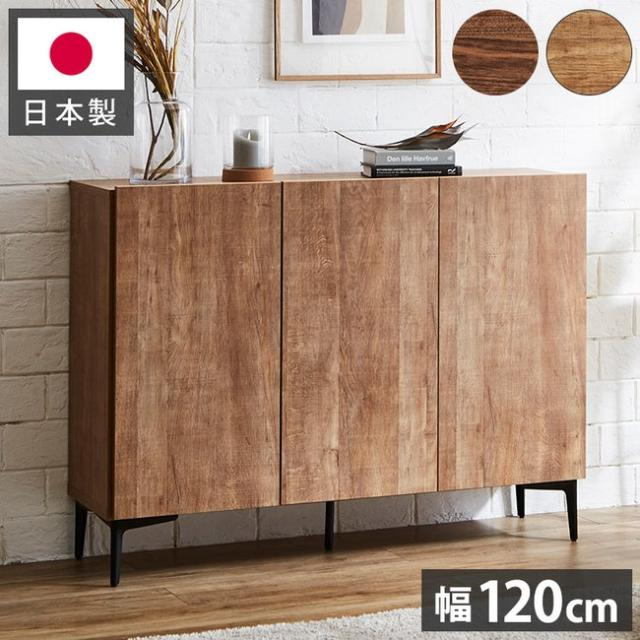vintage shelf: (65, 164, 592, 552)
